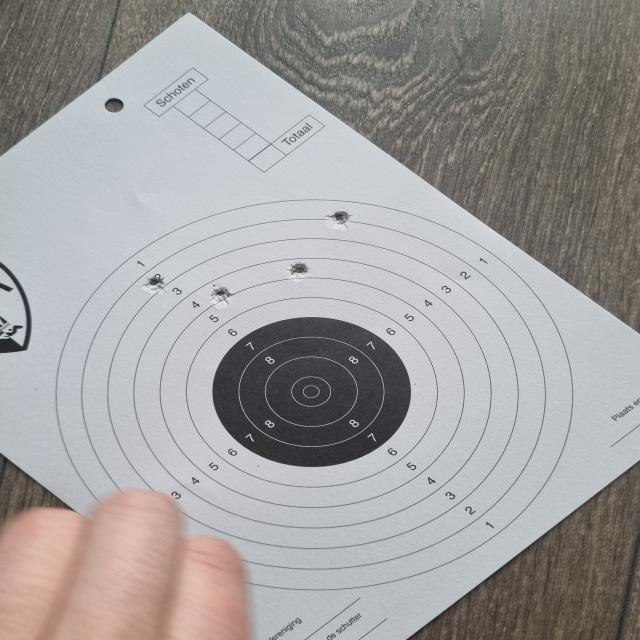2: (326, 211, 352, 230)
3: (141, 277, 165, 291)
5: (285, 262, 310, 280), (210, 286, 234, 304)
Target: (56, 198, 573, 592)
black_contour: (212, 317, 410, 468)
